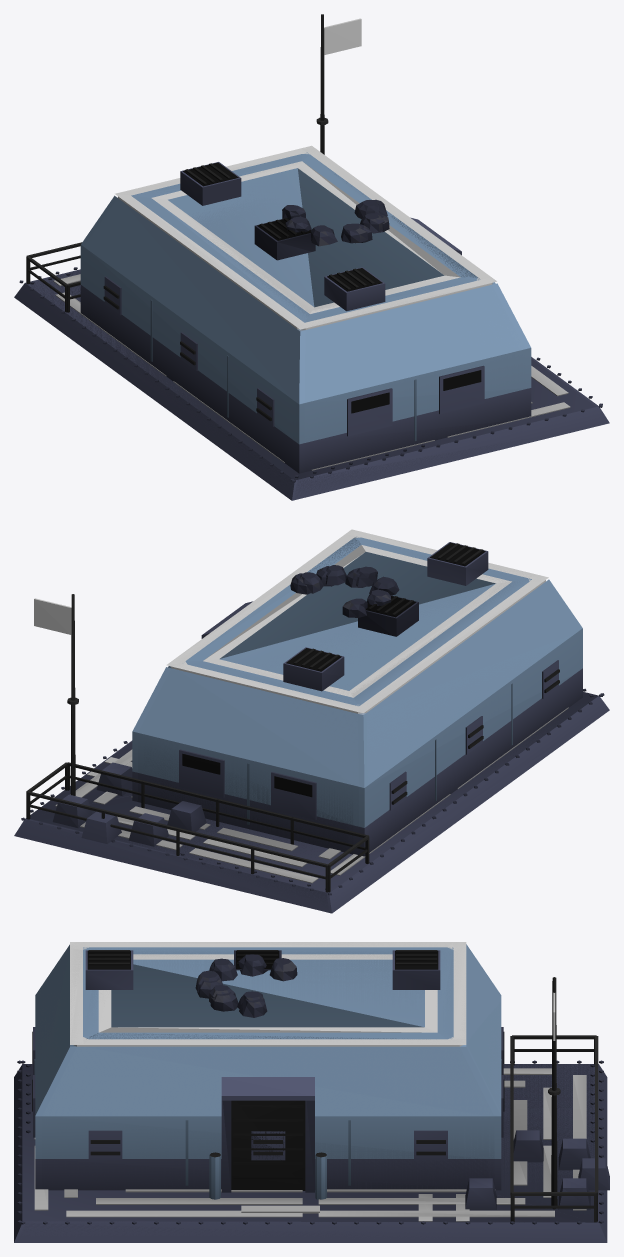
The model's file is veyran_barracks_damaged.glb.
The picture shows the model from 3 angles, top to bottom: view 1: azimuth 30°, elevation 25°; view 2: azimuth 150°, elevation 25°; view 3: azimuth 270°, elevation 25°; orthographic projection. The views are drawn at different scales.
Parts seen in each view (by area): view 1: body (×3); view 2: body (×3); view 3: body (×3).
Part boxes in pixels (bbox=[...]): body (×3): bbox=[14, 14, 609, 500]; body (×3): bbox=[14, 529, 609, 913]; body (×3): bbox=[14, 942, 609, 1242].
Bounding box in the file's own units: 7.5 × 5.15 × 11.25.
